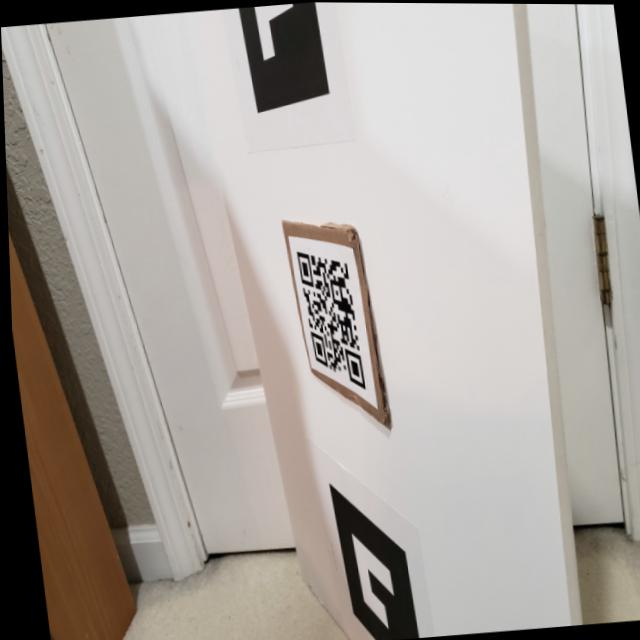QR_CODE: (288, 236, 375, 403)
